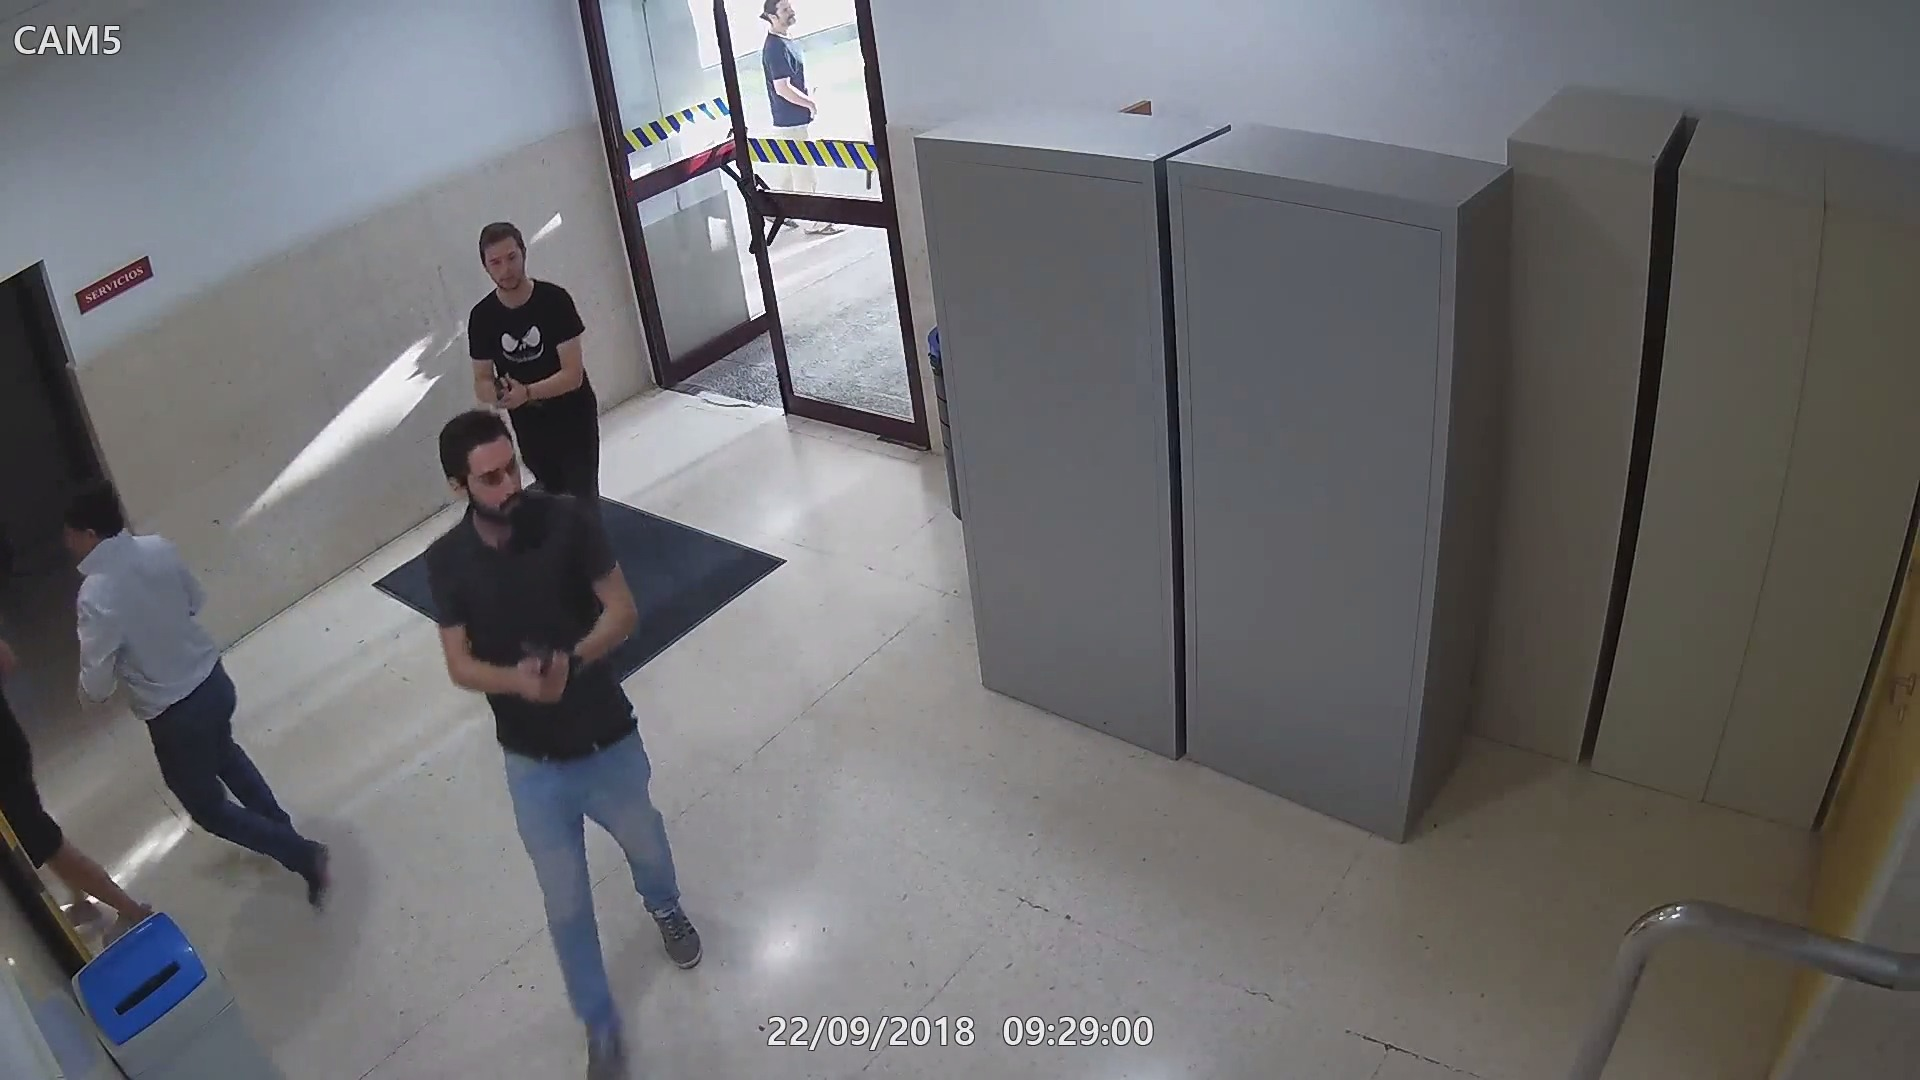Handgun: (505, 634, 578, 696), (477, 372, 526, 409)
